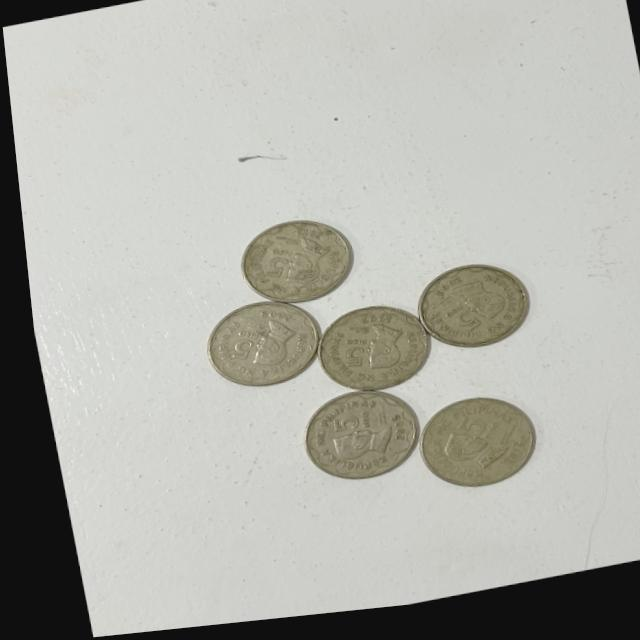5_Old_Front: (207, 326, 265, 369), (427, 306, 478, 353), (442, 415, 492, 458), (315, 411, 368, 449), (245, 246, 291, 288), (331, 340, 367, 380)
